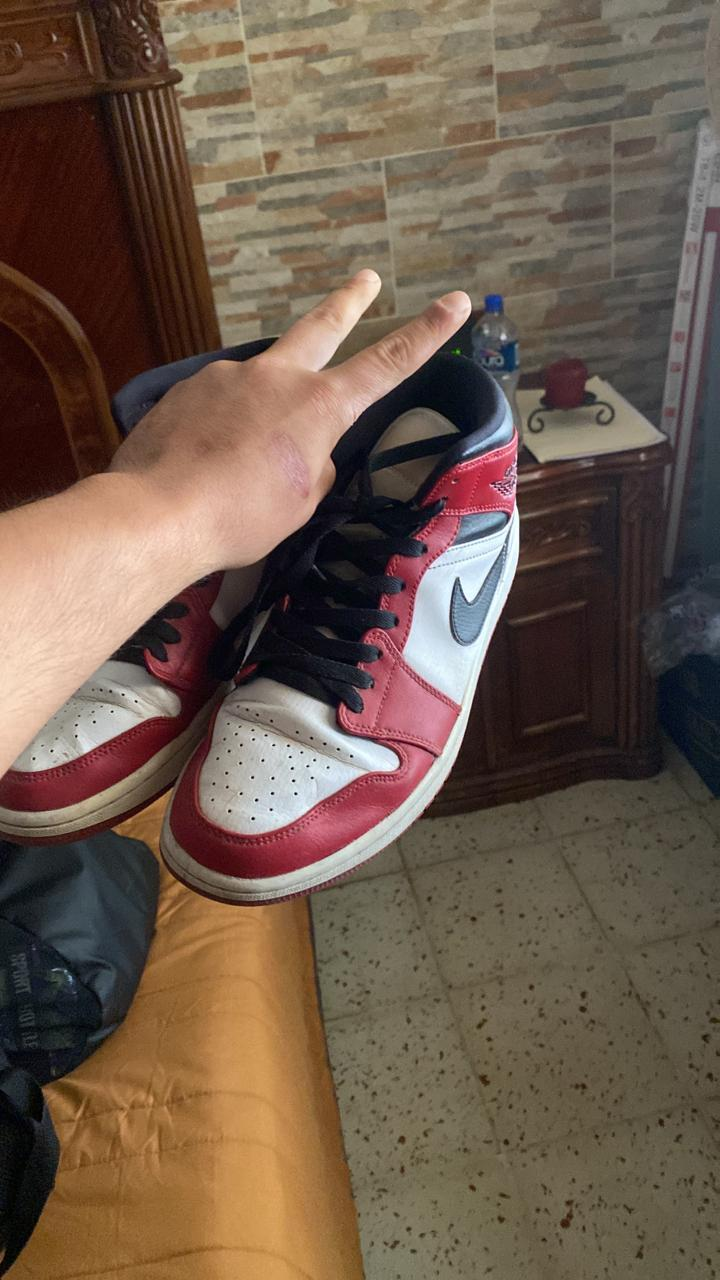Scissor: (76, 246, 504, 580)
